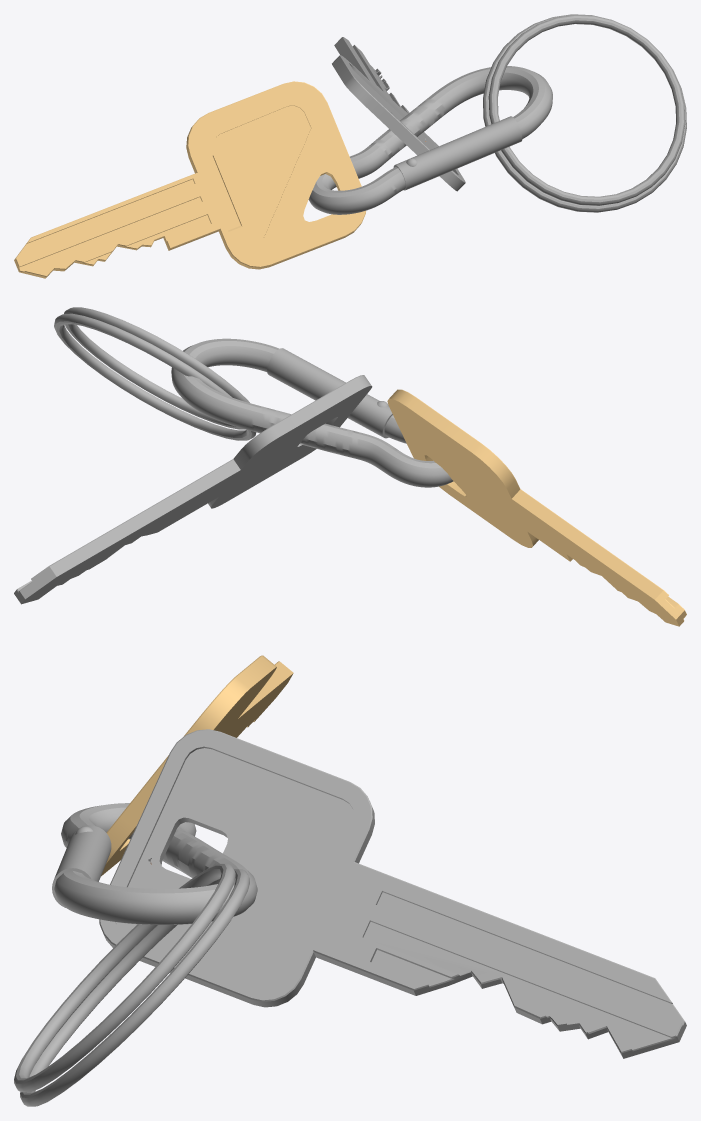
File: chiavi.fbx
3 renders of one model, top to bottom at view 1: azimuth 30°, elevation 25°; view 2: azimuth 150°, elevation 25°; view 3: azimuth 270°, elevation 25°, orthographic. The views are drawn at different scales.
Parts seen in each view (by area): view 1: Plane.011, NurbsPath.253, Circle, Cube.610; view 2: Plane.011, NurbsPath.253, Cube.610, Circle; view 3: Cube.610, Circle, NurbsPath.253, Plane.011.
Boxes of the visible parts, x1,y1,x2,y2 form: Plane.011: [14, 81, 365, 278]; NurbsPath.253: [308, 66, 552, 214]; Circle: [483, 14, 686, 212]; Cube.610: [332, 37, 465, 191]; Plane.011: [387, 389, 686, 626]; NurbsPath.253: [171, 338, 453, 487]; Cube.610: [14, 375, 372, 604]; Circle: [54, 307, 256, 440]; Cube.610: [99, 729, 686, 1058]; Circle: [14, 863, 249, 1106]; NurbsPath.253: [52, 803, 257, 924]; Plane.011: [101, 655, 293, 876].
Size of the model in its own units: 12.92 by 2.96 by 7.98.
